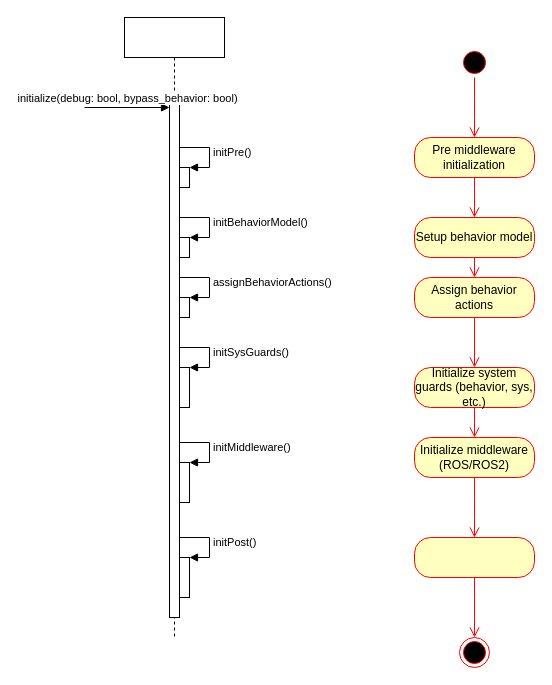
Some shapes in this 552 by 685 pixel diagram are drawn without their labels. Each missing label, with the box of its shape:
:ReiNodeInterface: (124, 16, 224, 638)
Post initialization steps: (414, 536, 534, 578)
